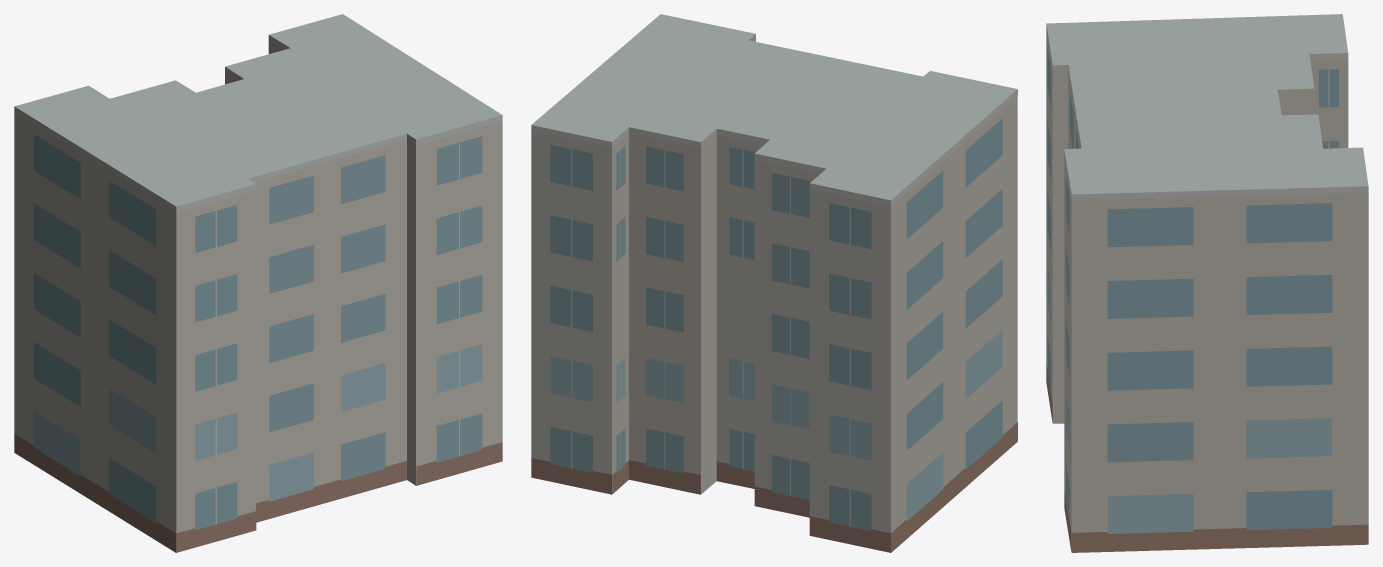
File: survey-upis-32965655.glb
The picture shows the model from 3 angles, left to right: view 1: azimuth 30°, elevation 25°; view 2: azimuth 150°, elevation 25°; view 3: azimuth 270°, elevation 25°; orthographic projection. The views are drawn at different scales.
Visible parts, largest first — view 1: survey-upis-32965655.tmp; view 2: survey-upis-32965655.tmp; view 3: survey-upis-32965655.tmp.
Boxes of the visible parts, x1=… form: survey-upis-32965655.tmp: x1=14, y1=14, x2=502, y2=552; survey-upis-32965655.tmp: x1=531, y1=14, x2=1017, y2=552; survey-upis-32965655.tmp: x1=1046, y1=14, x2=1368, y2=552.
Bounding box in the file's own units: 15.23 × 14.1 × 11.49.
